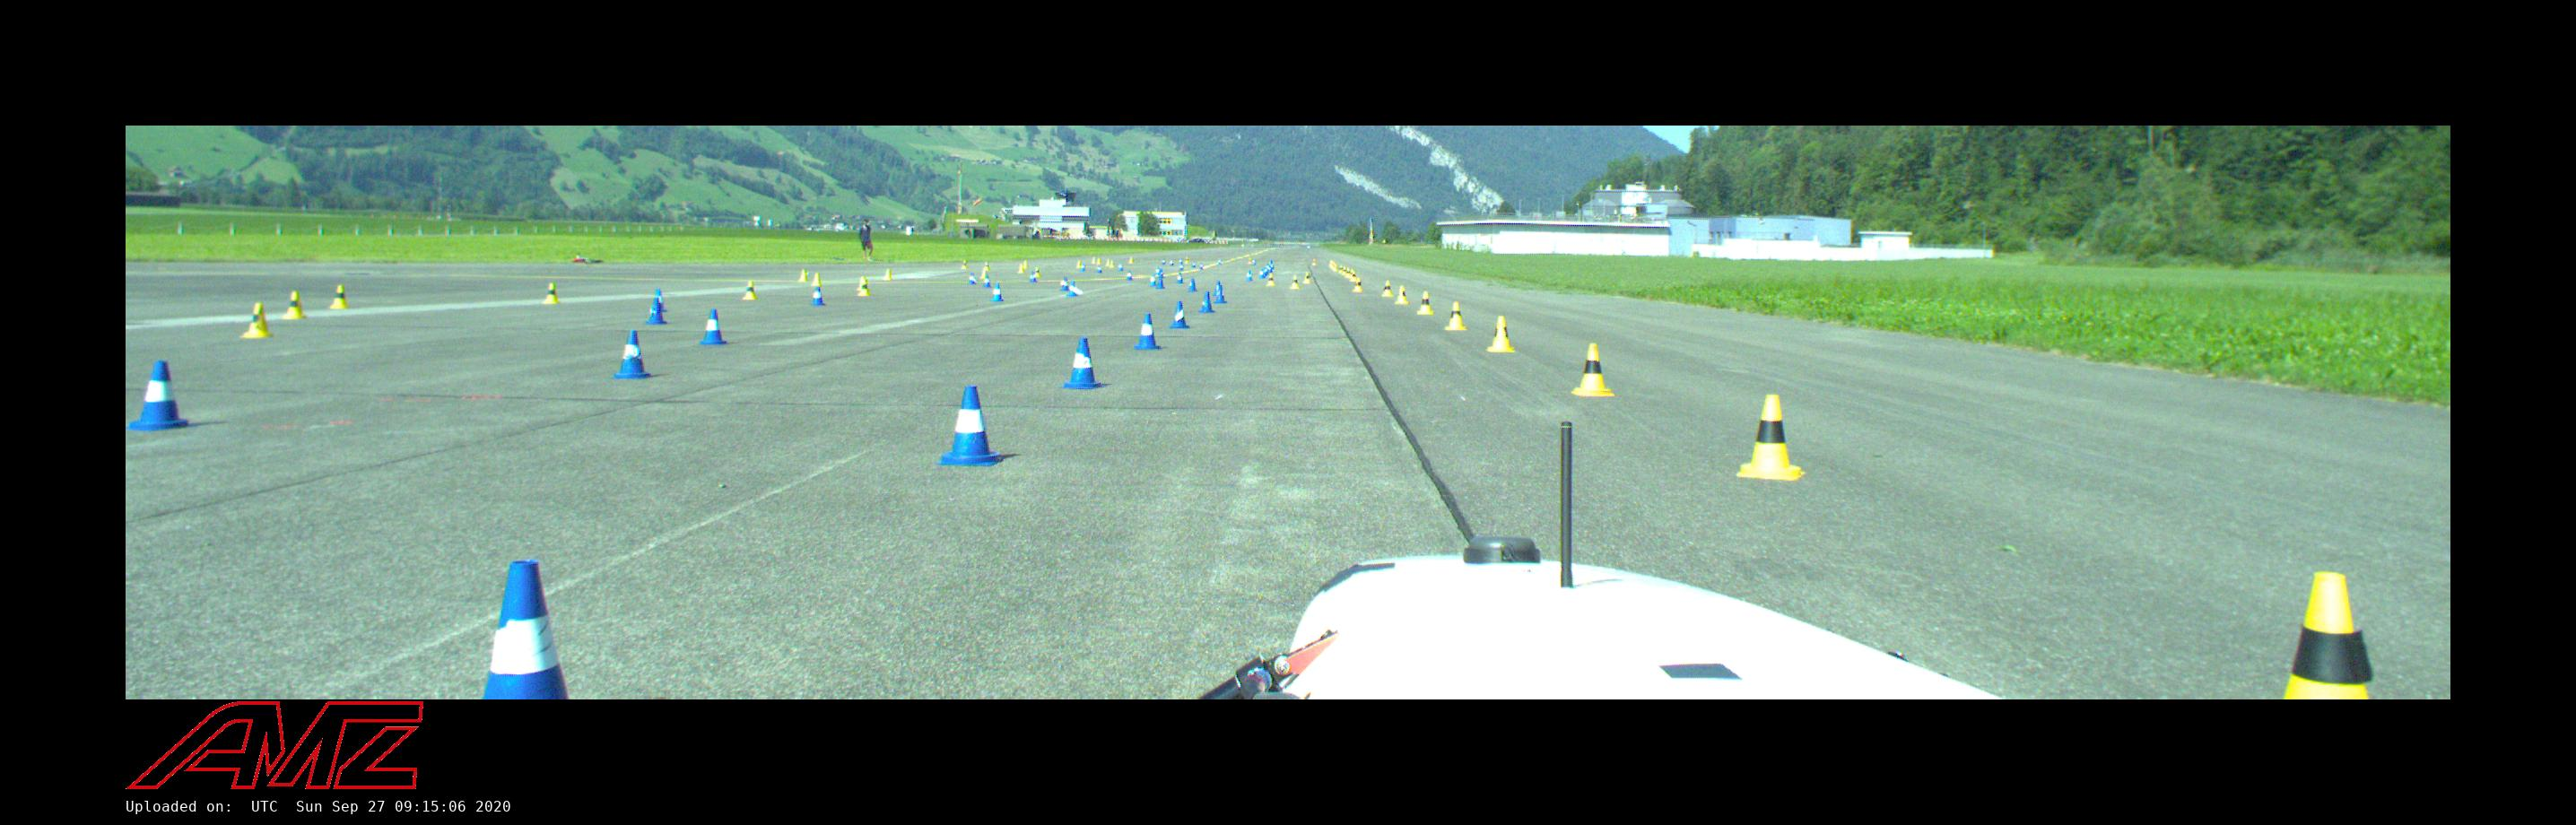blue_cone: (483, 560, 568, 698), (936, 386, 1002, 467), (127, 362, 197, 429), (1058, 337, 1106, 388), (611, 330, 651, 380), (1132, 314, 1161, 350), (698, 309, 728, 345), (1168, 301, 1189, 329), (646, 297, 667, 324), (1198, 291, 1216, 312), (810, 286, 825, 306), (1212, 286, 1227, 304), (991, 283, 1004, 301), (1066, 281, 1079, 297), (1212, 281, 1221, 296), (1188, 279, 1198, 291), (982, 276, 992, 288), (1060, 278, 1068, 291), (1157, 276, 1165, 289)
yellow_cone: (2284, 572, 2372, 698), (1737, 394, 1804, 480), (1572, 343, 1615, 396), (241, 304, 274, 337), (1487, 316, 1515, 352), (281, 291, 307, 319), (1446, 301, 1467, 330), (330, 286, 348, 307), (1416, 291, 1433, 314), (542, 283, 560, 302), (743, 281, 757, 299), (1395, 286, 1408, 304), (858, 279, 871, 296), (1382, 281, 1393, 296), (1290, 276, 1301, 289), (812, 273, 823, 286), (1352, 278, 1362, 291), (798, 270, 808, 281), (1267, 273, 1275, 286)
